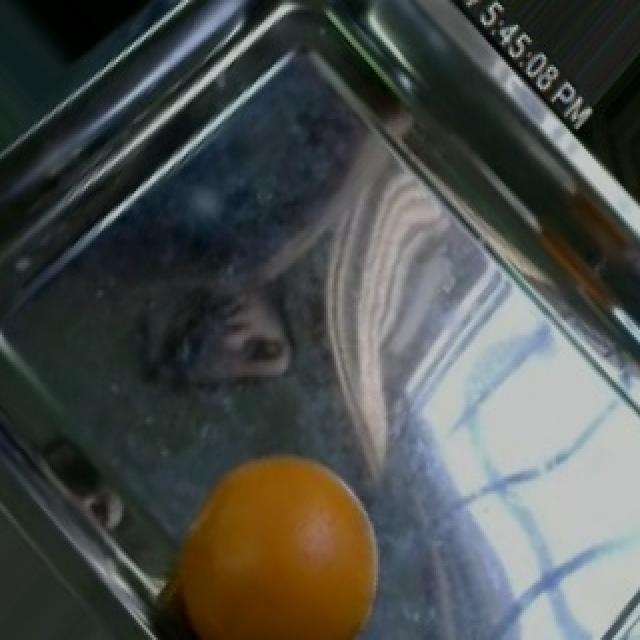Fruit: (146, 437, 398, 638)
